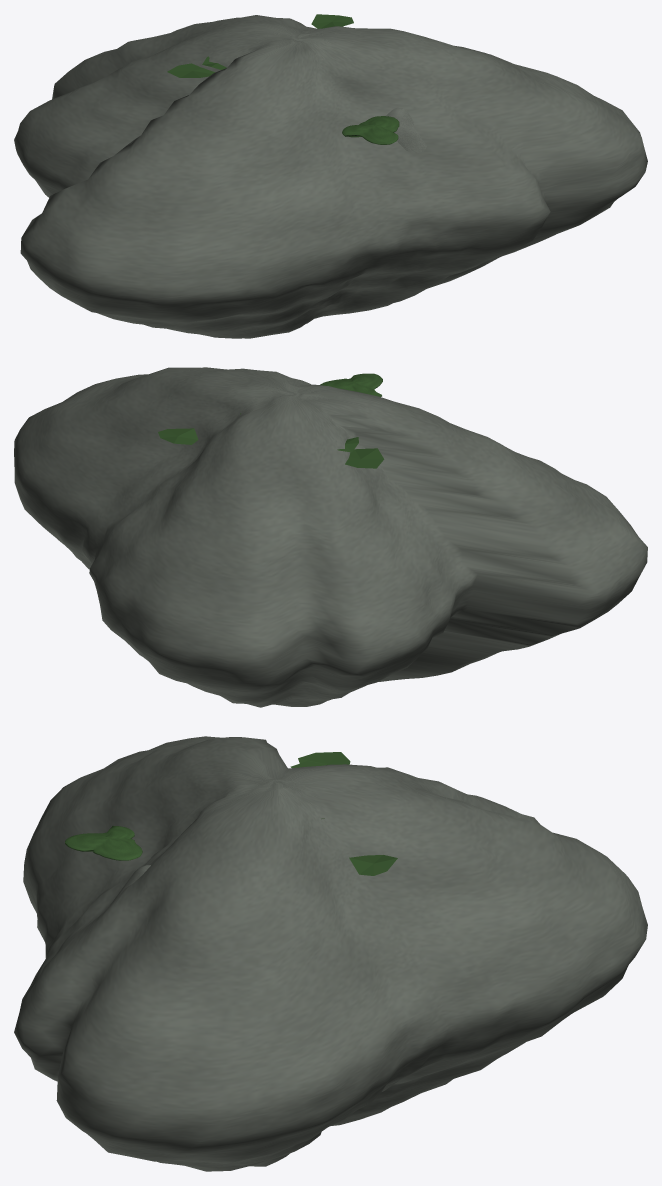
The model's file is rock_small.glb.
3 renders of one model, top to bottom at view 1: azimuth 30°, elevation 25°; view 2: azimuth 150°, elevation 25°; view 3: azimuth 270°, elevation 25°, orthographic. The views are drawn at different scales.
Visible parts, largest first — view 1: rock_small_core, rock_small_moss_00, rock_small_shard_01, rock_small_moss_patch_04, rock_small_moss_patch_00; view 2: rock_small_core, rock_small_moss_00, rock_small_moss_patch_00, rock_small_moss_patch_04; view 3: rock_small_core, rock_small_moss_00, rock_small_moss_patch_04.
Part boxes in pixels (x1,y1,x2,y2): rock_small_core: [14, 15, 647, 338]; rock_small_moss_00: [342, 116, 399, 144]; rock_small_shard_01: [386, 107, 426, 152]; rock_small_moss_patch_04: [311, 14, 353, 28]; rock_small_moss_patch_00: [167, 63, 214, 77]; rock_small_core: [14, 367, 647, 707]; rock_small_moss_00: [319, 373, 382, 396]; rock_small_moss_patch_00: [345, 448, 384, 468]; rock_small_moss_patch_04: [158, 428, 198, 444]; rock_small_core: [14, 736, 647, 1171]; rock_small_moss_00: [65, 826, 142, 860]; rock_small_moss_patch_04: [349, 855, 397, 875].
Size of the model in its own units: 0.6219 by 0.2803 by 0.4717.
Materials: 3 (3 with a texture image).
